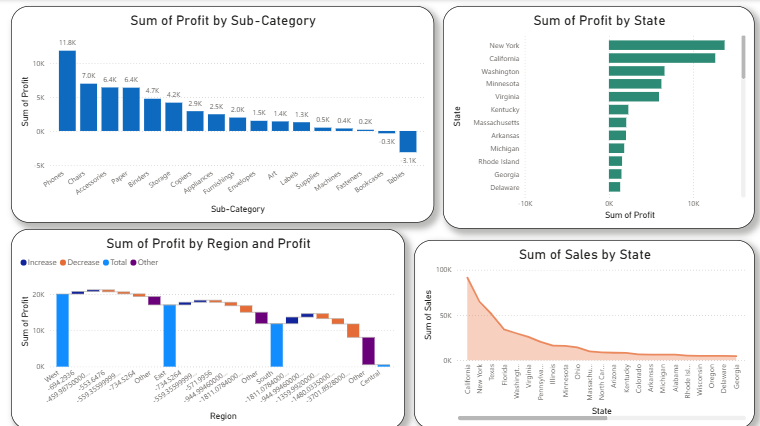

Layout of this report page (visuals, bound fields, positions):
{"tool":"powerbi","page":{"name":"Graph","canvas":[1280,720],"ordinal":6},"visuals":[{"type":"columnChart","fields":{"Y":["Sum(Sheet1.Profit)"],"Category":["Sheet1.Sub-Category"]},"box":[21.8,11.8,708.9,362.8],"z":0},{"type":"stackedAreaChart","fields":{"Category":["Sheet1.State"],"Y":["Sum(Sheet1.Sales)"]},"box":[697.1,403.1,571.1,317.5],"z":1000},{"type":"waterfallChart","fields":{"Category":["Sheet1.Region"],"Y":["Sum(Sheet1.Profit)"],"Breakdown":["Sheet1.Profit"]},"box":[21.8,384.7,660.2,336],"z":2000},{"type":"clusteredBarChart","fields":{"Category":["Sheet1.State"],"Y":["Sum(Sheet1.Profit)"]},"box":[745.8,11.8,522.4,372.9],"z":3000}]}

Visuals, with their boxes in screenshot pixels (x1, y1, x2, y2), scaled from the page's 1280x720 canvas onto the 760x426 screenshot:
columnChart - Sum(Sheet1.Profit) x Sheet1.Sub-Category: region(13, 7, 434, 222)
stackedAreaChart - Sheet1.State x Sum(Sheet1.Sales): region(414, 239, 753, 425)
waterfallChart - Sheet1.Region x Sum(Sheet1.Profit): region(13, 228, 405, 425)
clusteredBarChart - Sheet1.State x Sum(Sheet1.Profit): region(443, 7, 753, 228)
